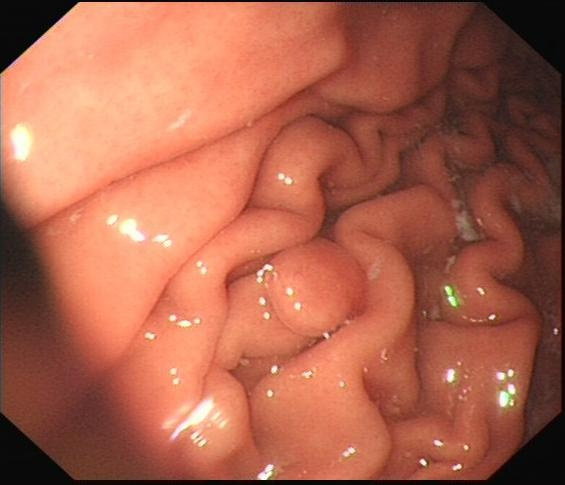Polyp: (256, 214, 390, 349)
